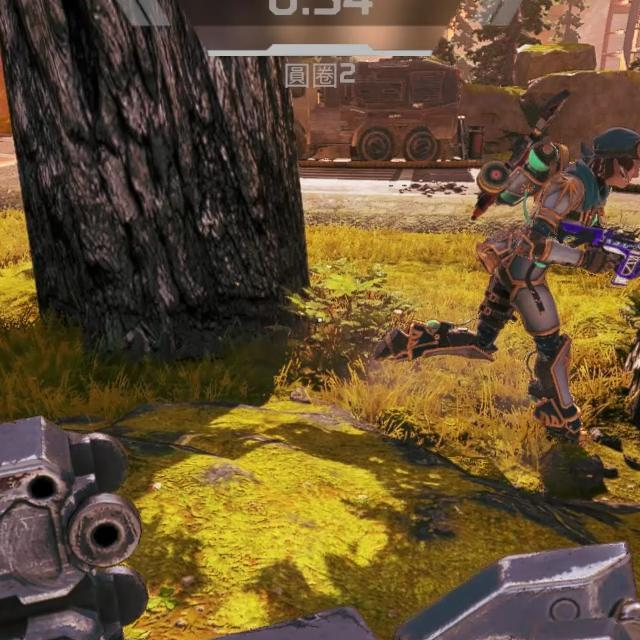avatar: (474, 126, 640, 446)
